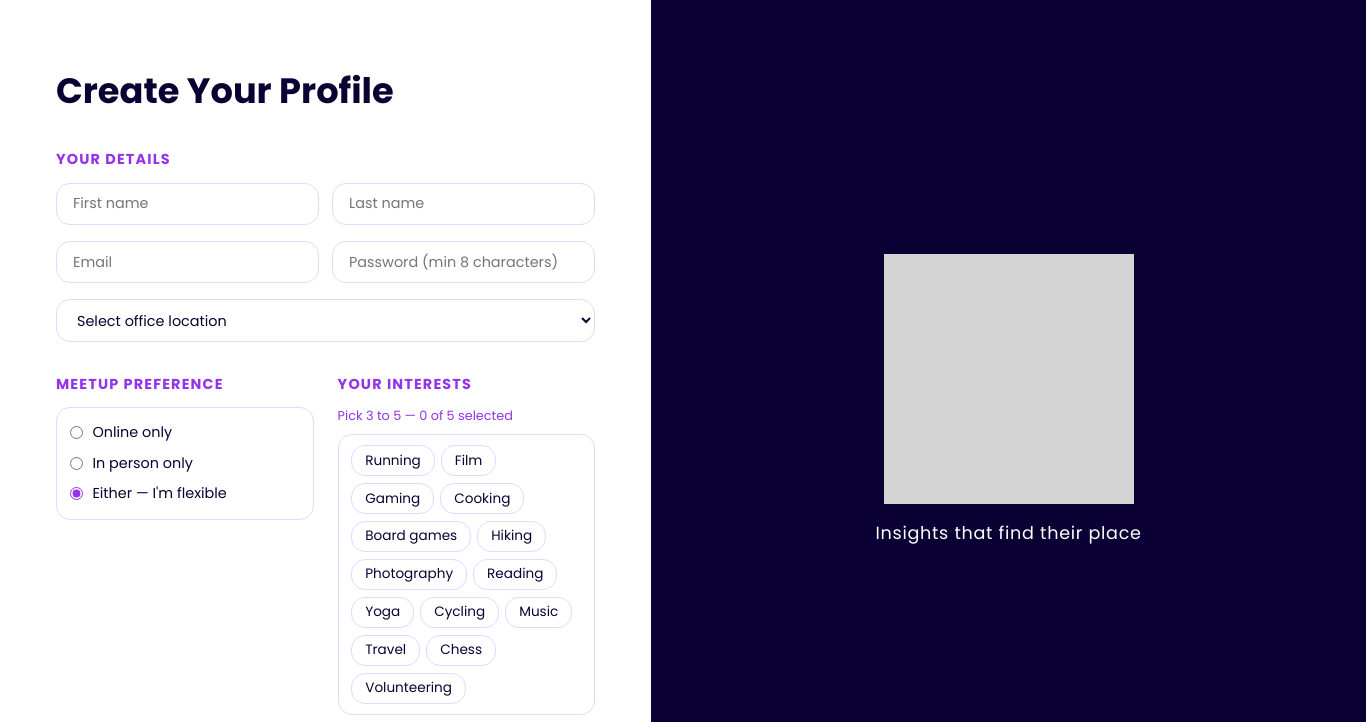
Test: SignUp component › shows error if fewer than 3 interests selected
Type "John" into the field with placeholder "First name" at (188, 204), box x1=56 y1=183 x2=319 y2=225
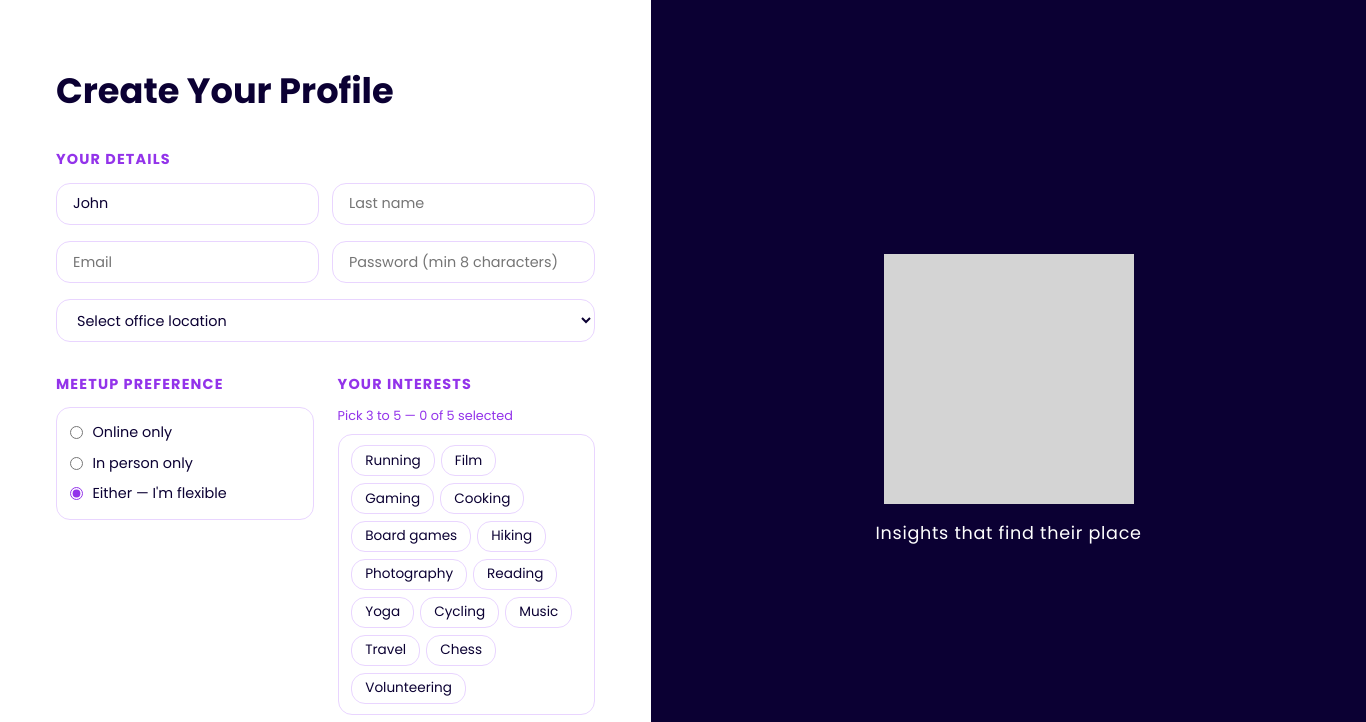
Type "Doe" into the field with placeholder "Last name" at (464, 204), box x1=332 y1=183 x2=595 y2=225
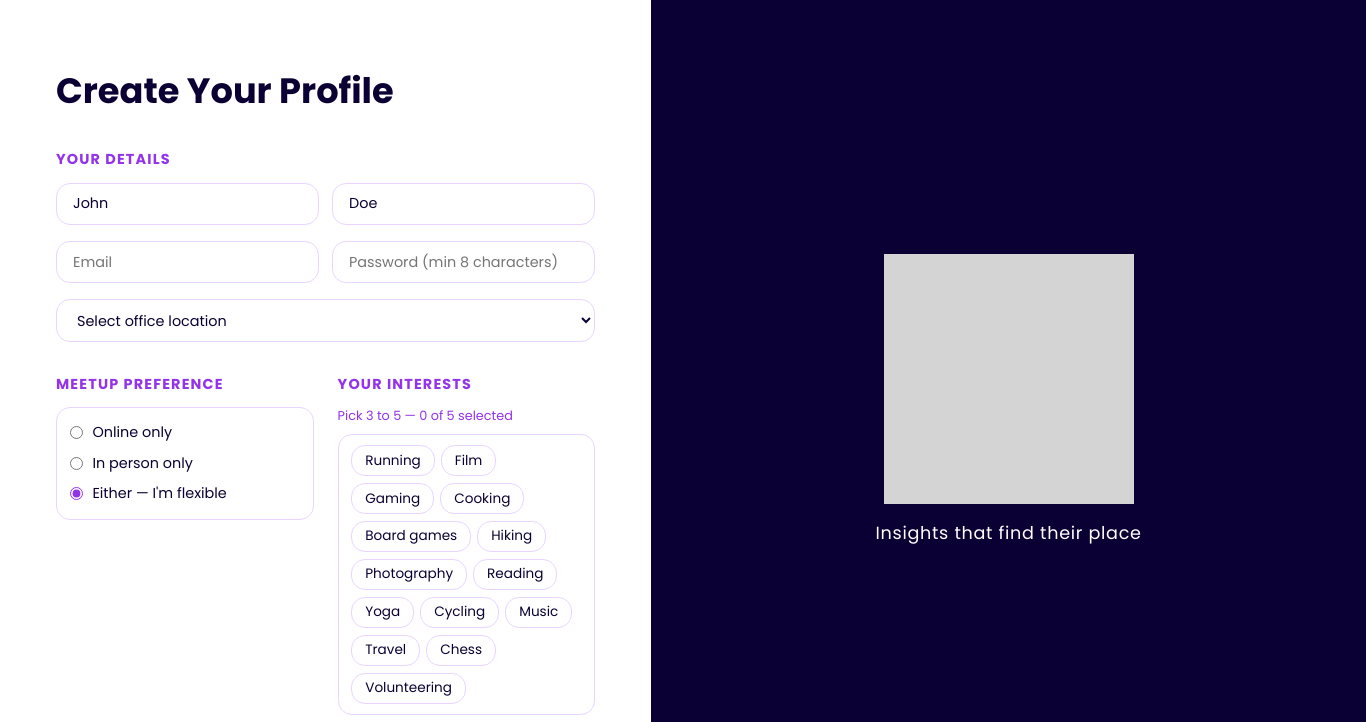
Type "john@test.com" into the field with placeholder "Email" at (188, 262), box x1=56 y1=241 x2=319 y2=283
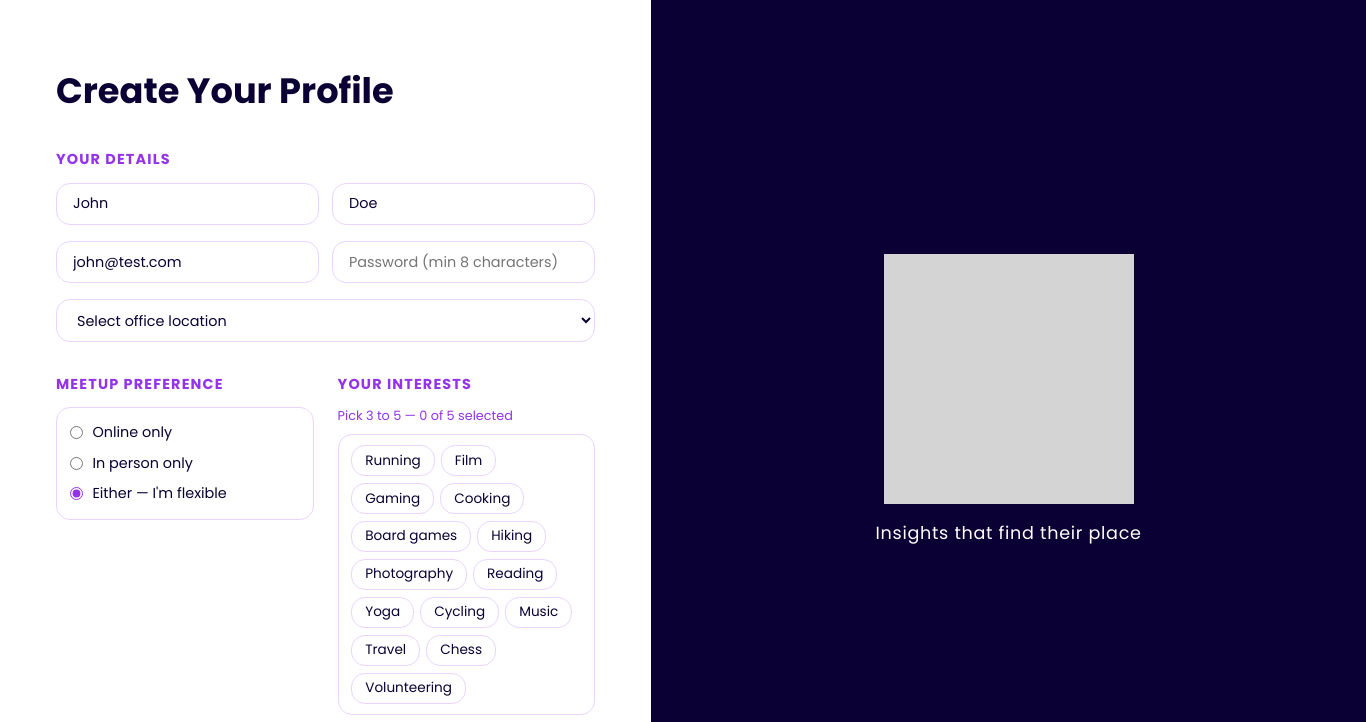
Type "password123" into the password field with placeholder "Password (min 8 characters)" at (464, 262), box x1=332 y1=241 x2=595 y2=283
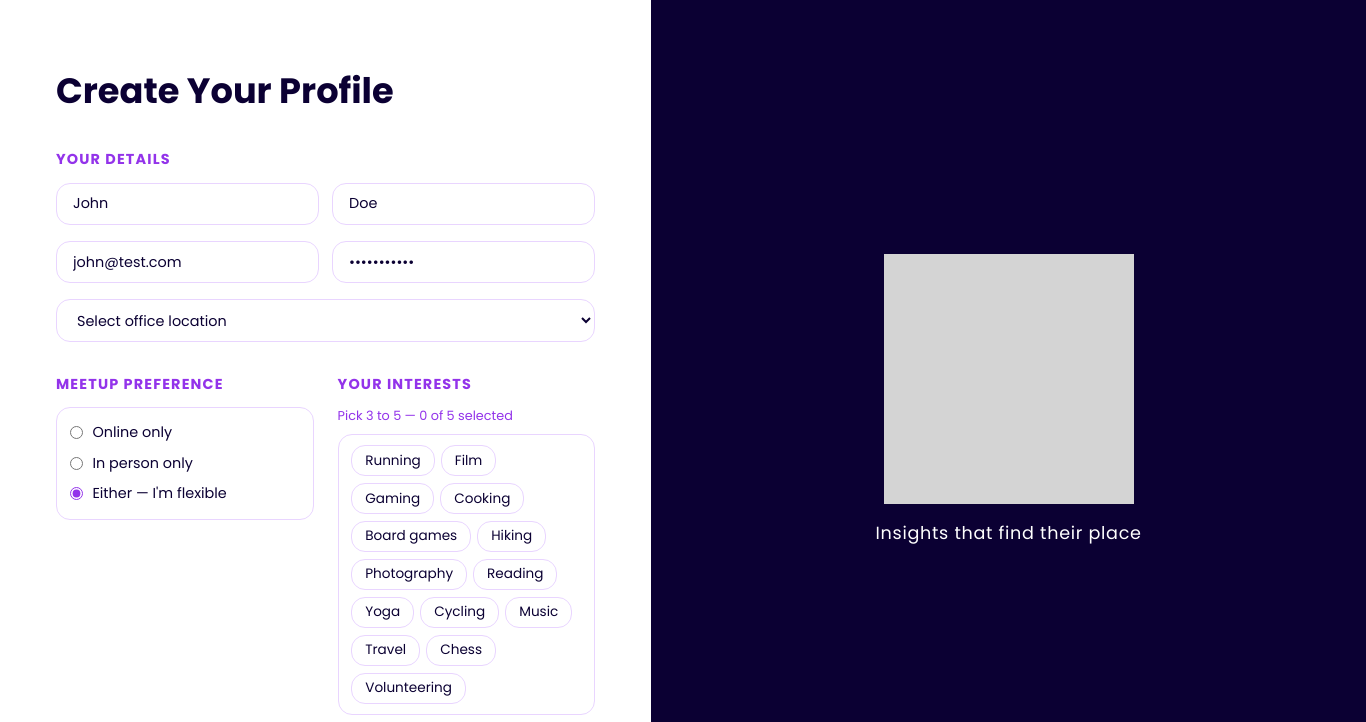
Select "London" in the dropdown at (326, 321), box x1=56 y1=299 x2=595 y2=342
(page scrolled)
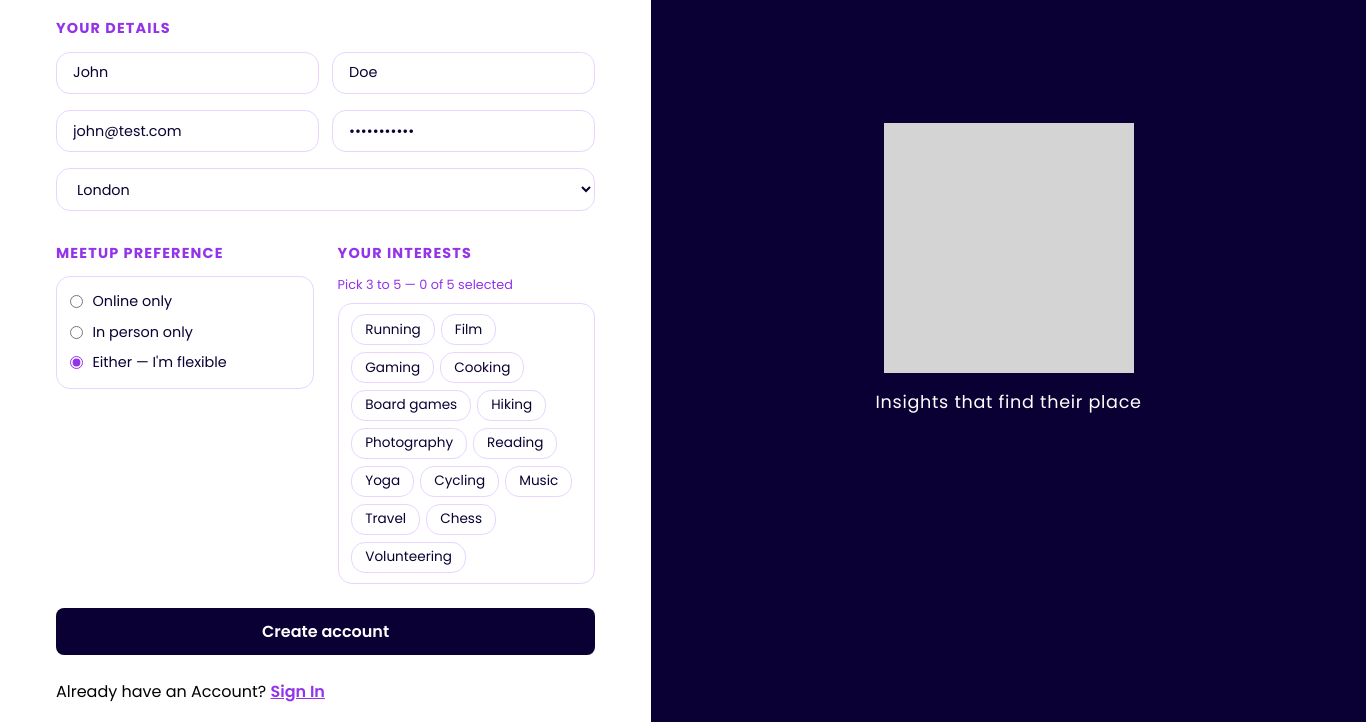
Click the button "Create account" at (326, 632), box x1=56 y1=608 x2=595 y2=655
(page scrolled)
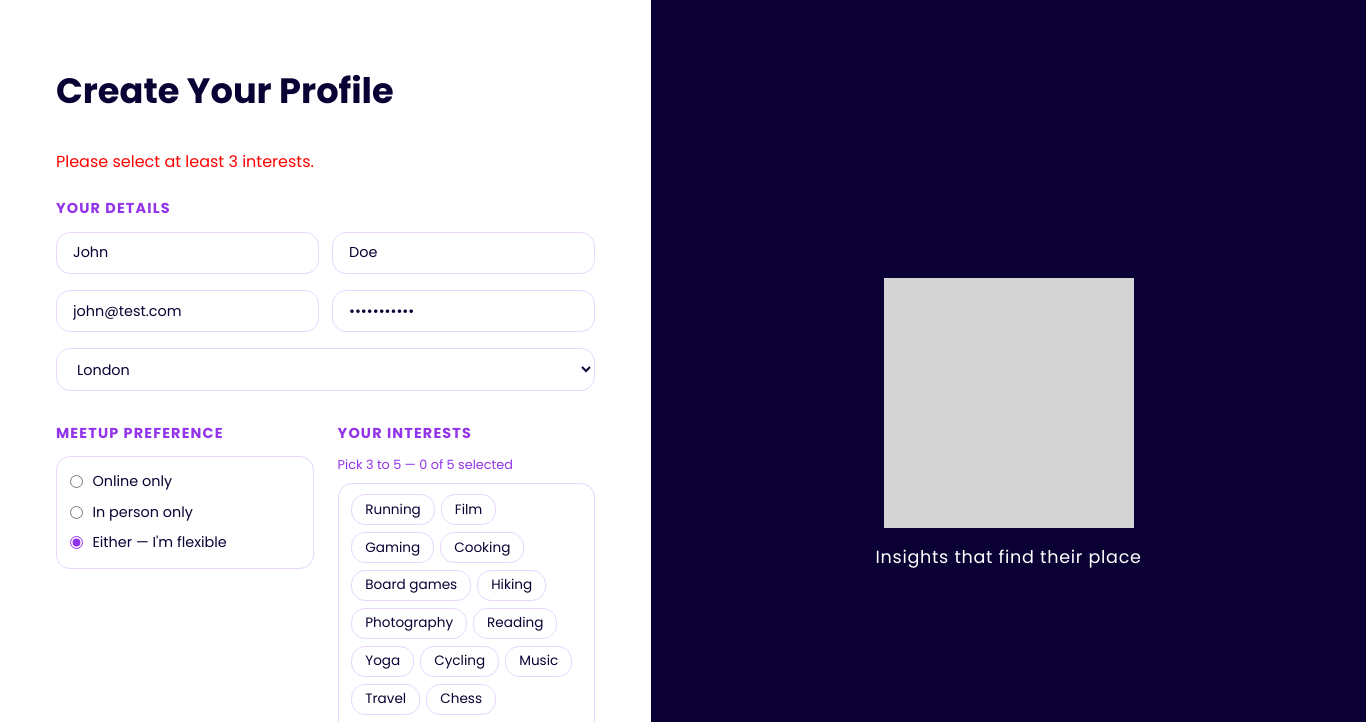
Expected: the text "Please select at least 3 interests." is shown, x1=56 y1=150 x2=314 y2=173
